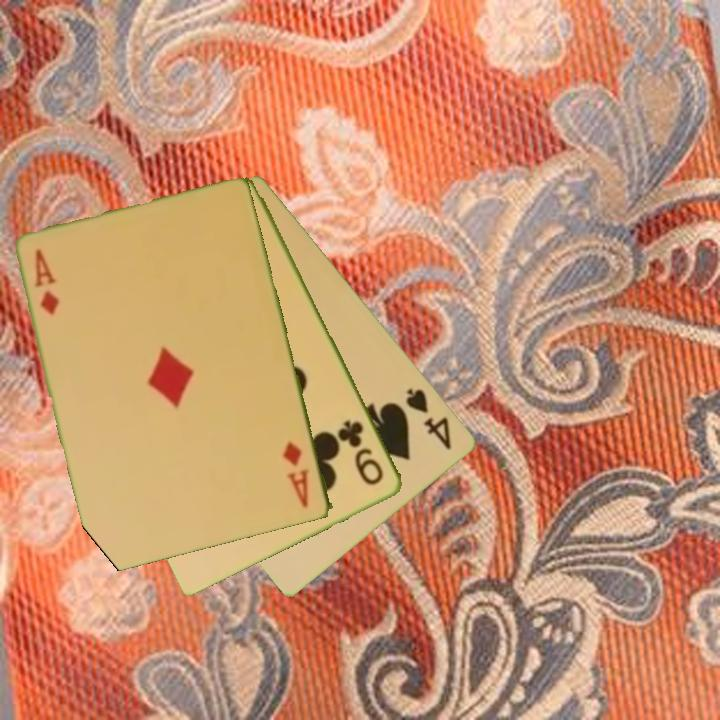4s: (403, 384, 455, 453)
9c: (336, 417, 387, 489)
Ad: (280, 438, 313, 511), (32, 245, 63, 319)
